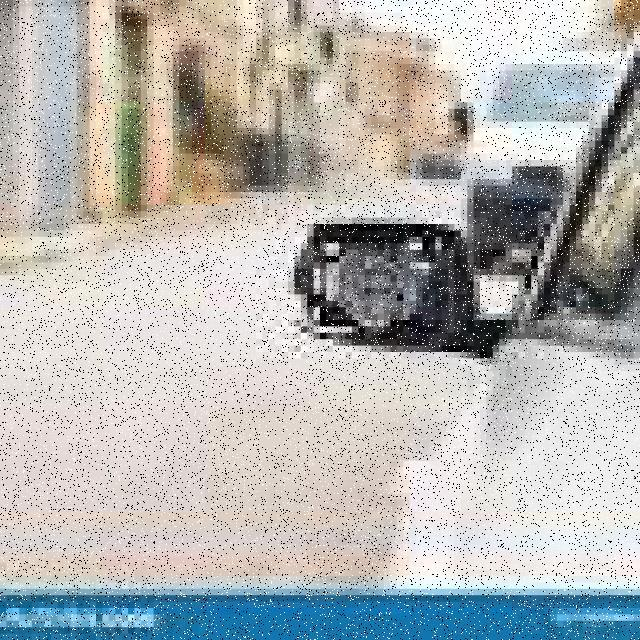Sidemirror-Damage: (276, 218, 487, 352)
